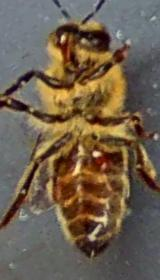varroa_mite: (86, 145, 116, 174)
